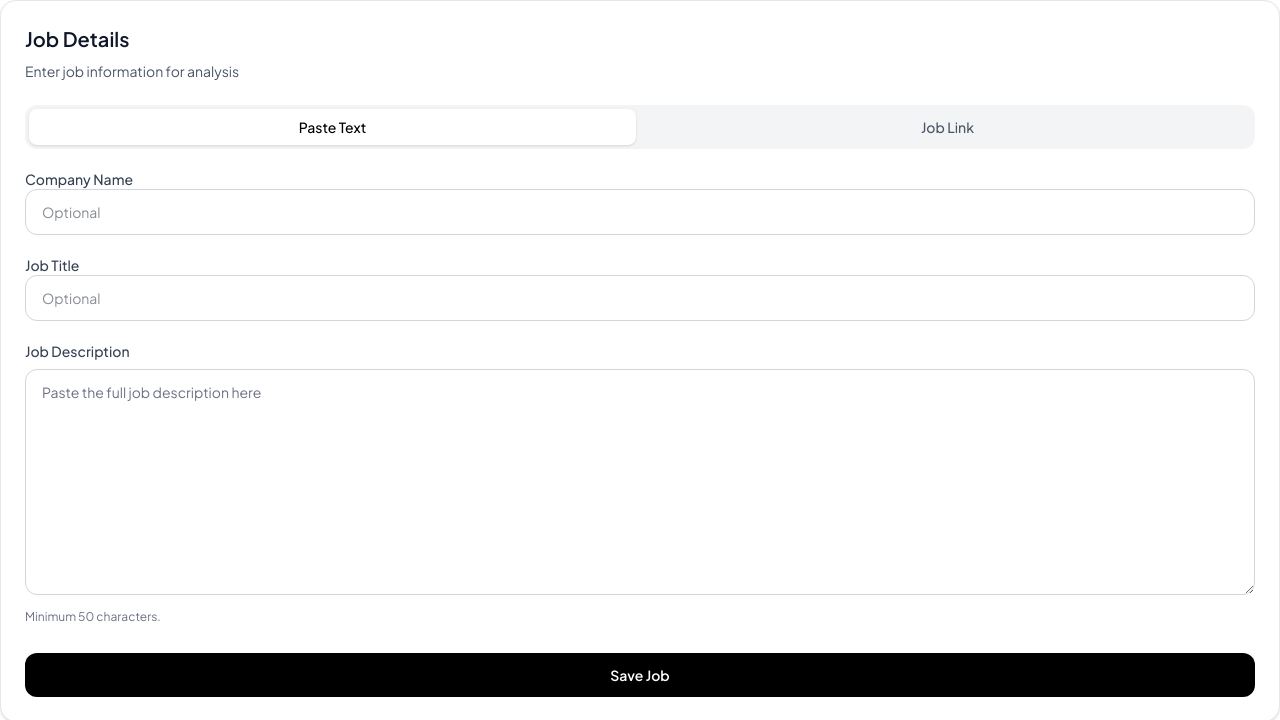
Scenario: JobForm › submits a TEXT job successfully and shows the current saved state
In the field labelled "Company Name": (640, 212) [25,189,1255,235], type "Acme"
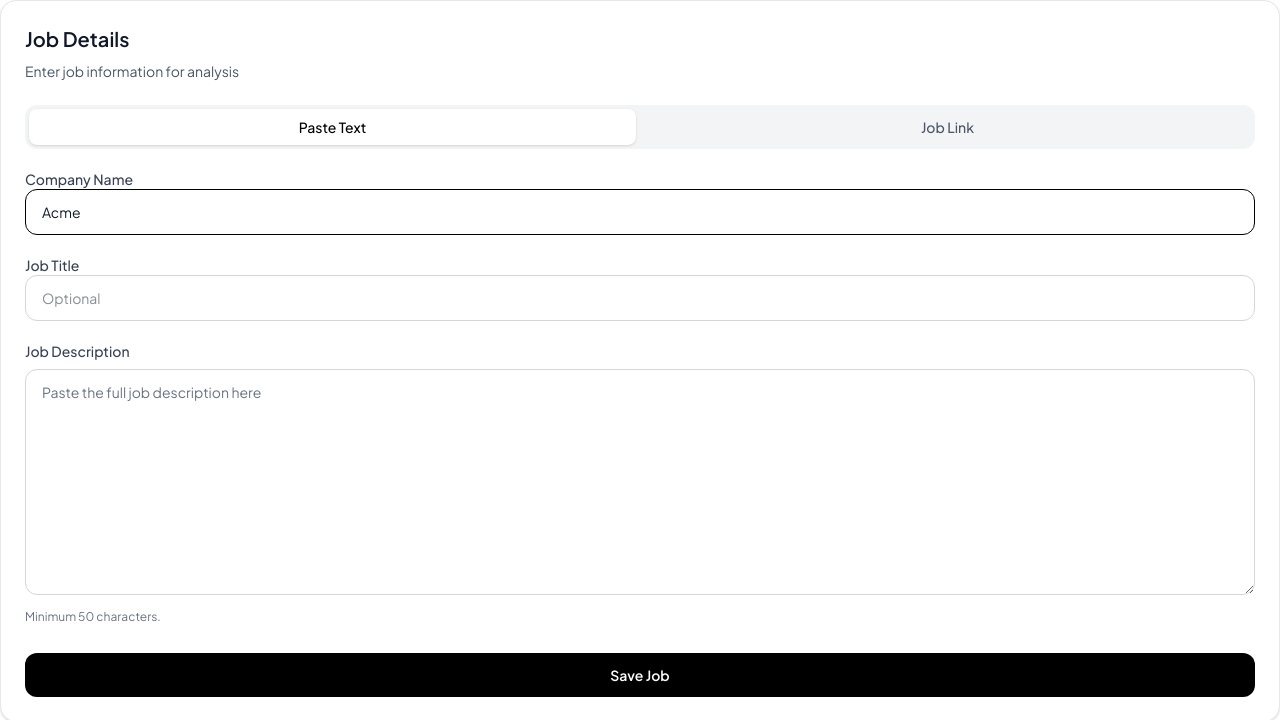
In the field labelled "Job Title": (640, 298) [25,275,1255,321], type "Frontend Engineer"
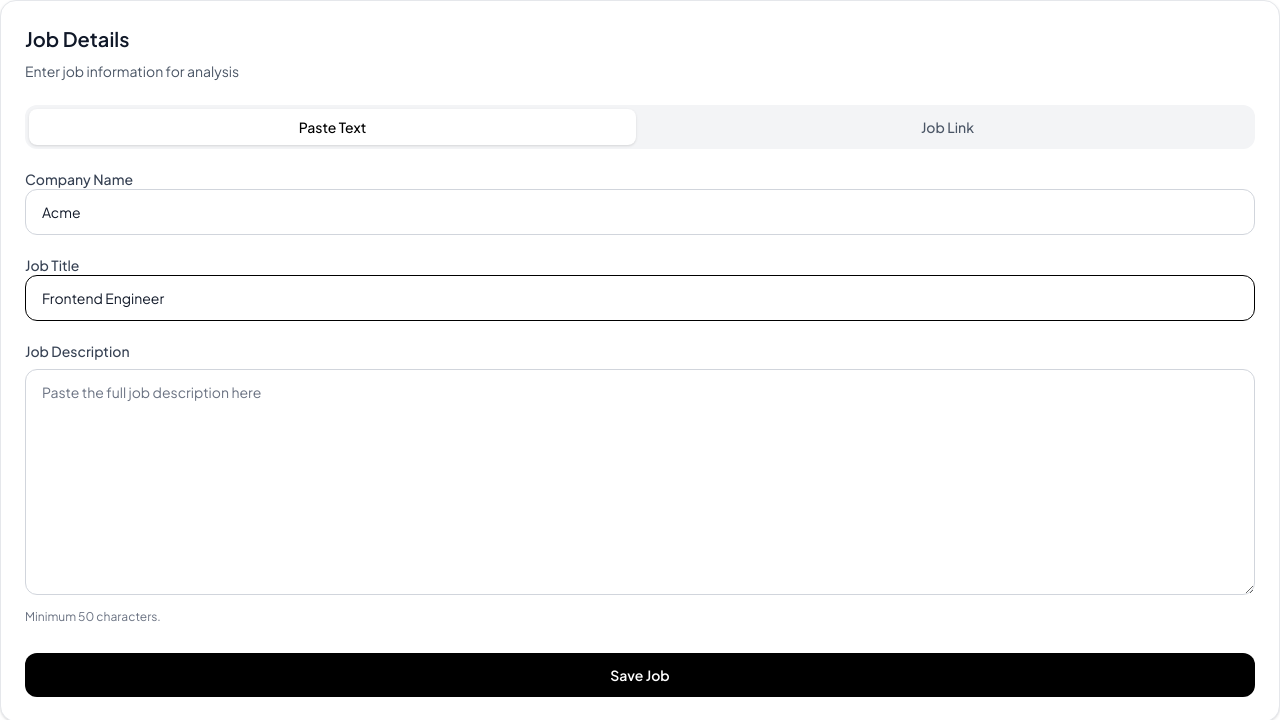
In the text box labelled "Job Description": (640, 482) [25,369,1255,595], type "Build accessible React interfaces for a software engineering role with TypeScript, testing, and product collaboration."
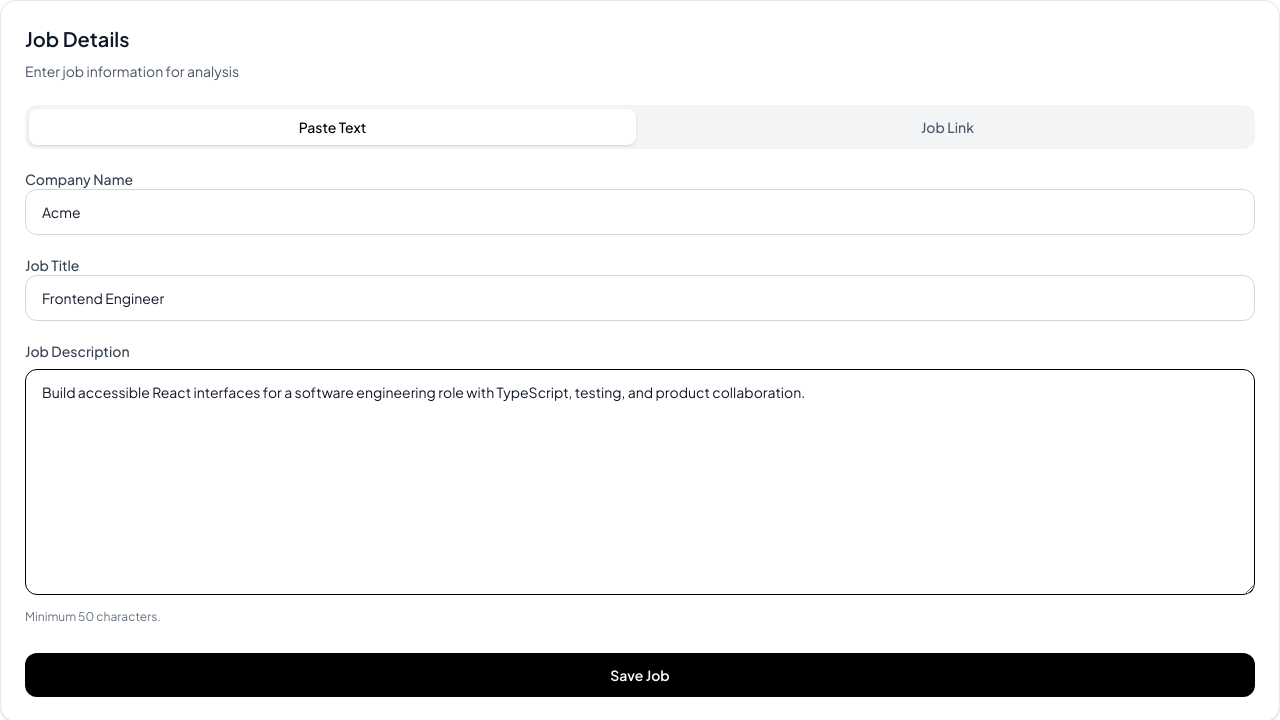
Click the button with aria-label "Submit job analysis": (640, 675) [25,653,1255,697]
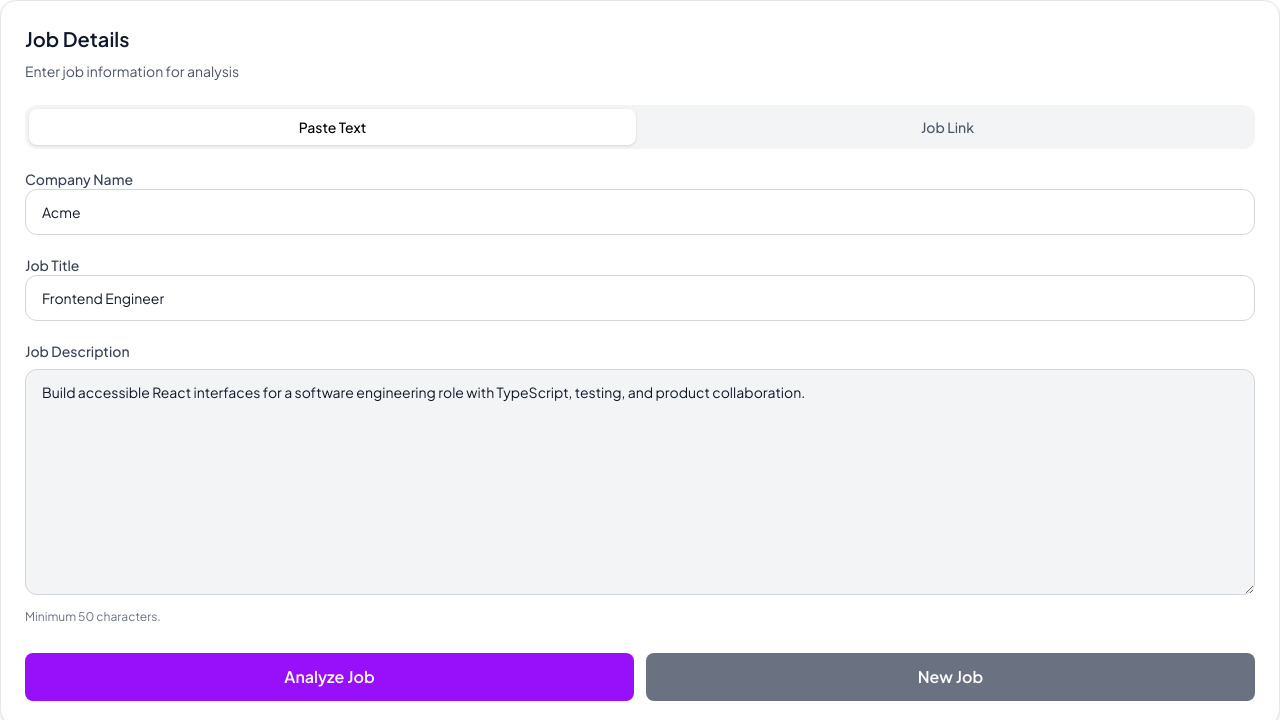
Result: the button with aria-label "Analyze job description" is shown at [25,653,634,701]
Result: the button "New Job" is shown at [646,653,1255,701]
